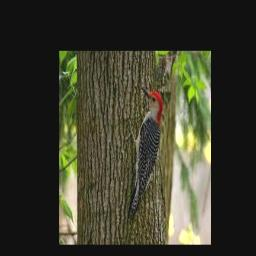Woodpecker: (126, 86, 163, 215)
